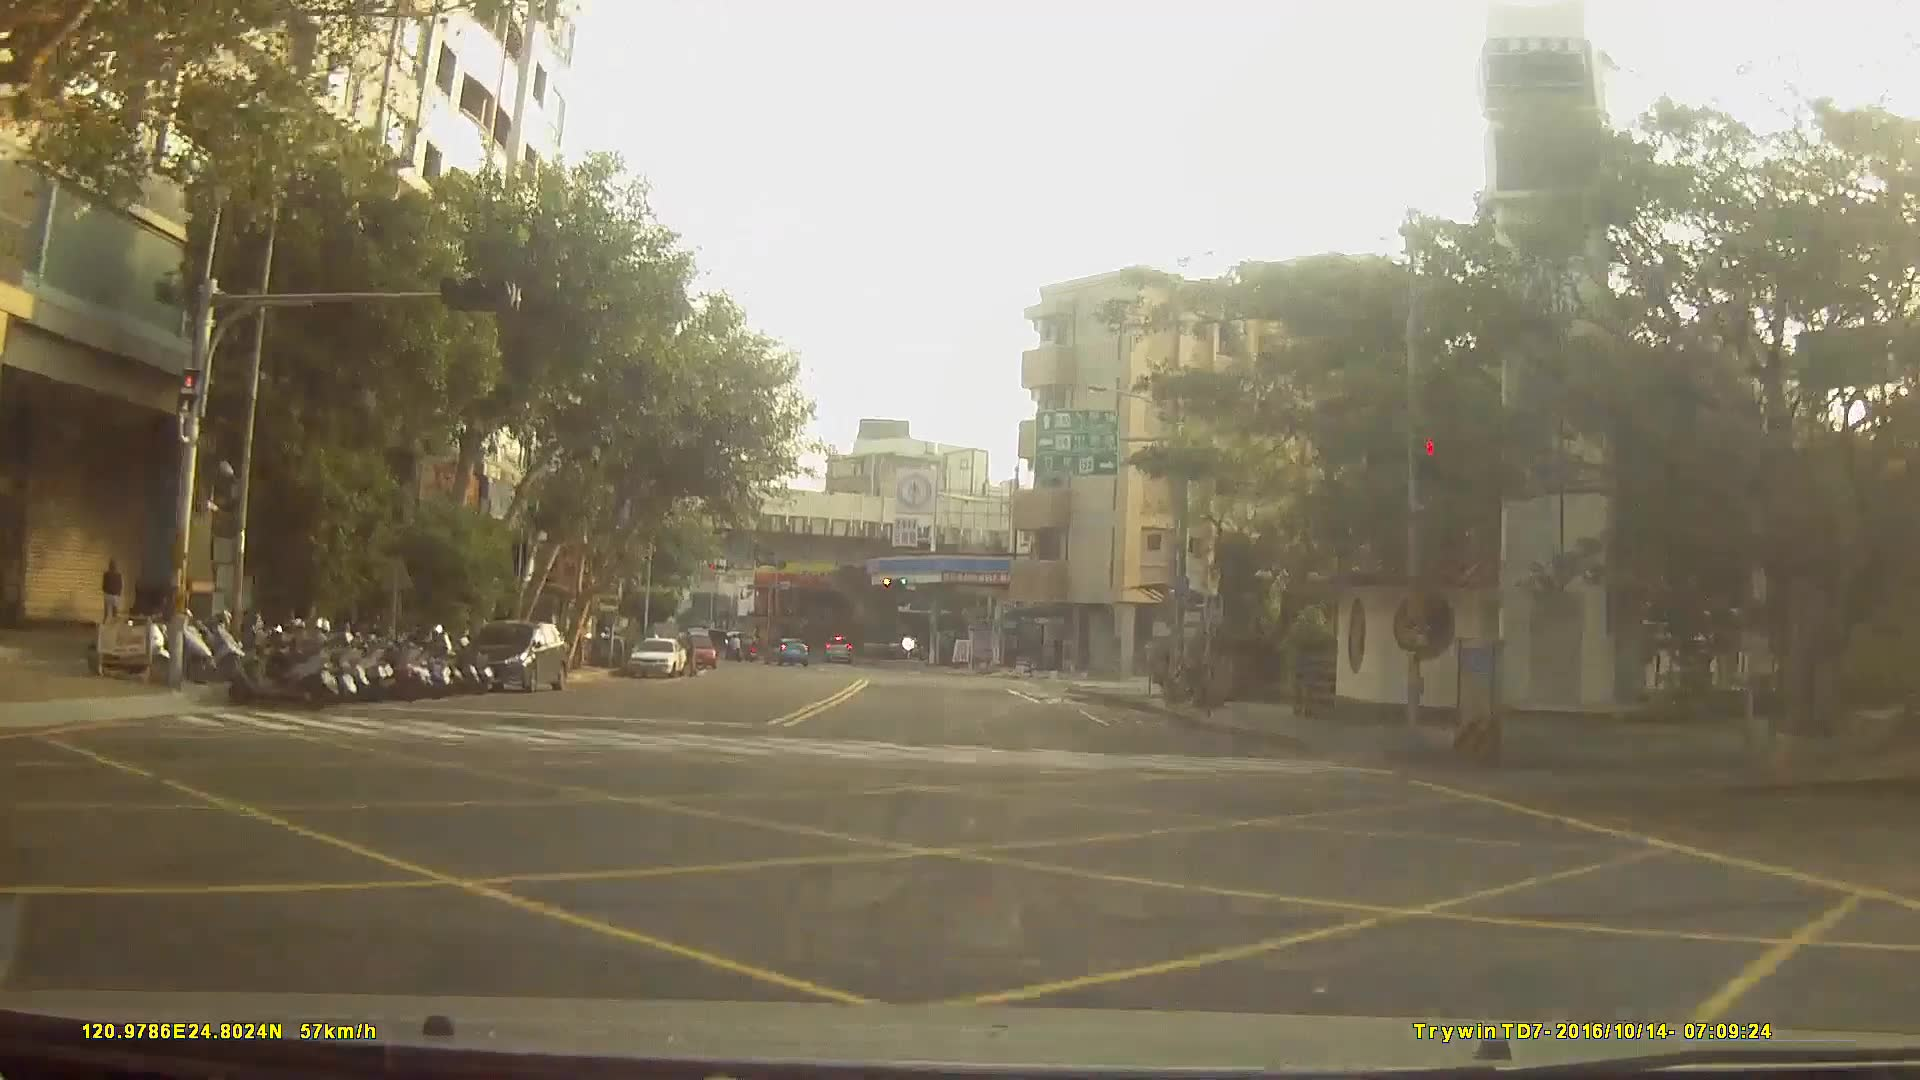pedestrian: (100, 563, 125, 639)
vehicle: (458, 620, 568, 695), (623, 635, 684, 678), (673, 635, 716, 673), (762, 636, 809, 667), (822, 636, 852, 664)
